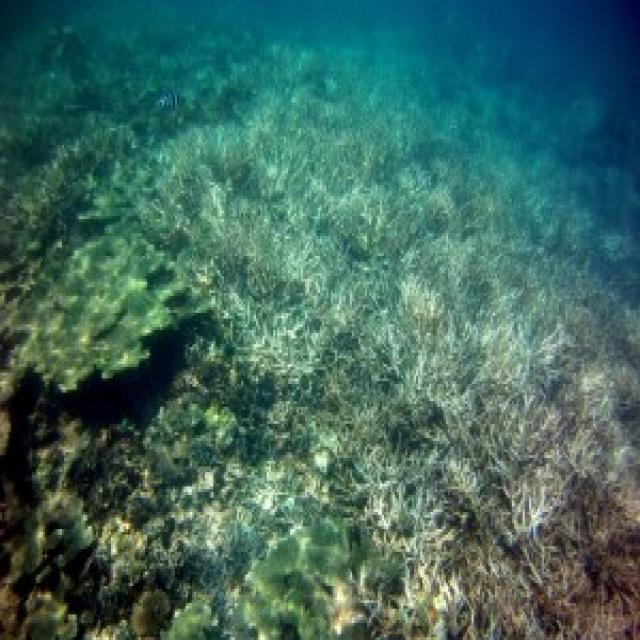Bleached: (198, 85, 492, 356), (341, 269, 638, 478)
Healthy: (1, 393, 108, 635), (489, 544, 640, 640)
